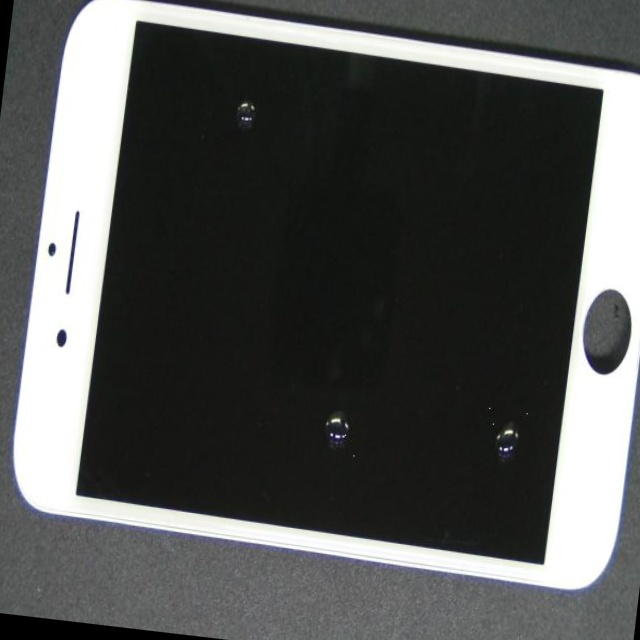oil: (109, 135, 531, 640), (237, 175, 640, 640), (98, 0, 358, 215)
